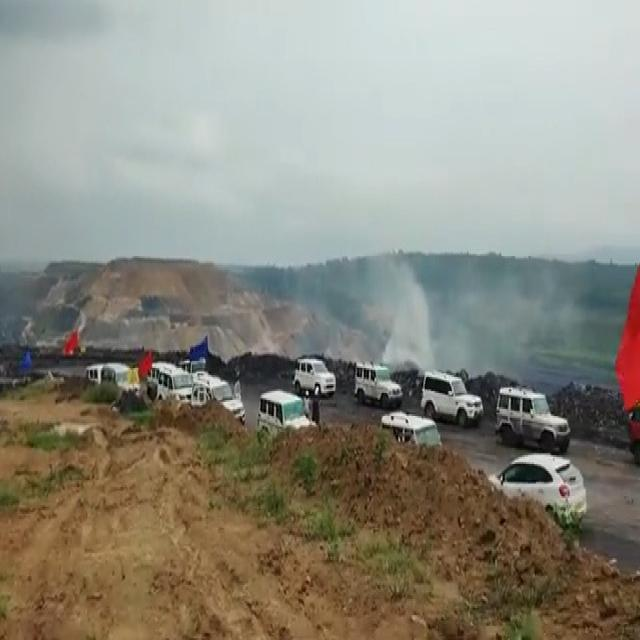light_vehicle: (508, 451, 588, 518), (494, 381, 570, 443), (422, 368, 486, 425), (257, 386, 313, 448), (354, 358, 404, 403), (295, 353, 340, 395)
